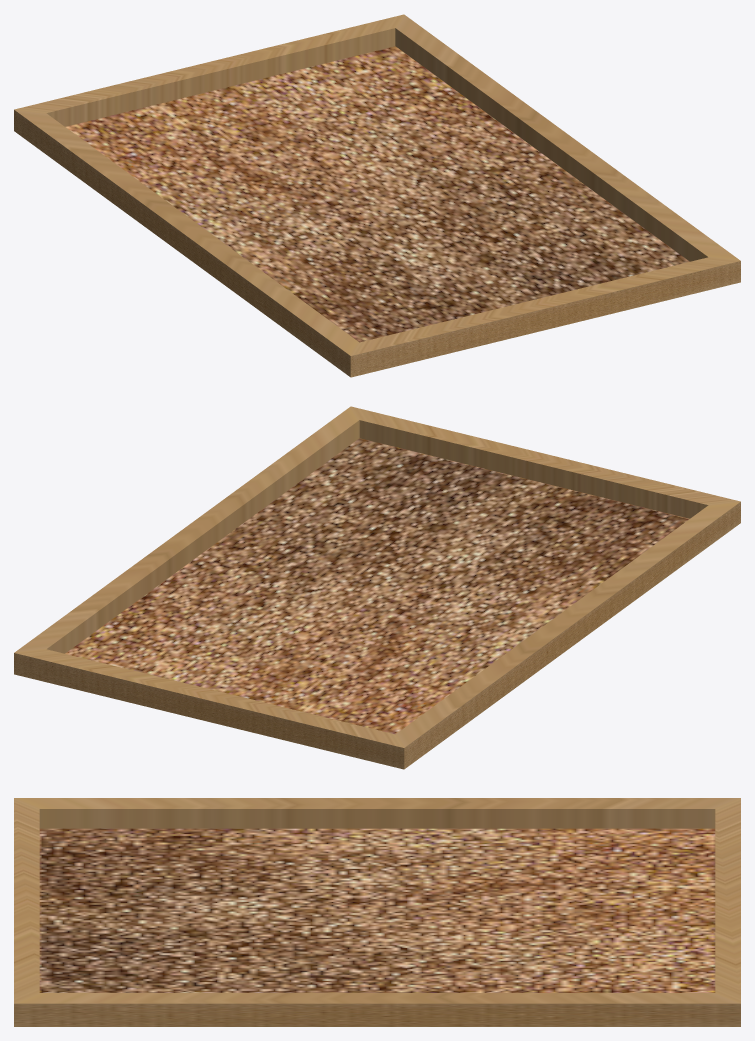
Rendered from pin board.FBX.
3 views of the same model, one above another, from view 1: azimuth 30°, elevation 25°; view 2: azimuth 150°, elevation 25°; view 3: azimuth 270°, elevation 25° (orthographic). The views are drawn at different scales.
Visible parts, largest first — view 1: Object001, Box001; view 2: Object001, Box001; view 3: Object001, Box001.
Boxes of the visible parts, box(x1,y1,x2,y2) form: Object001: box(65, 46, 689, 342); Box001: box(14, 14, 740, 377); Object001: box(65, 438, 689, 734); Box001: box(14, 406, 740, 769); Object001: box(39, 828, 715, 992); Box001: box(14, 798, 740, 1026).
Bounding box in the file's own units: 194 × 10.2 × 290.
2 materials, 2 textured.
